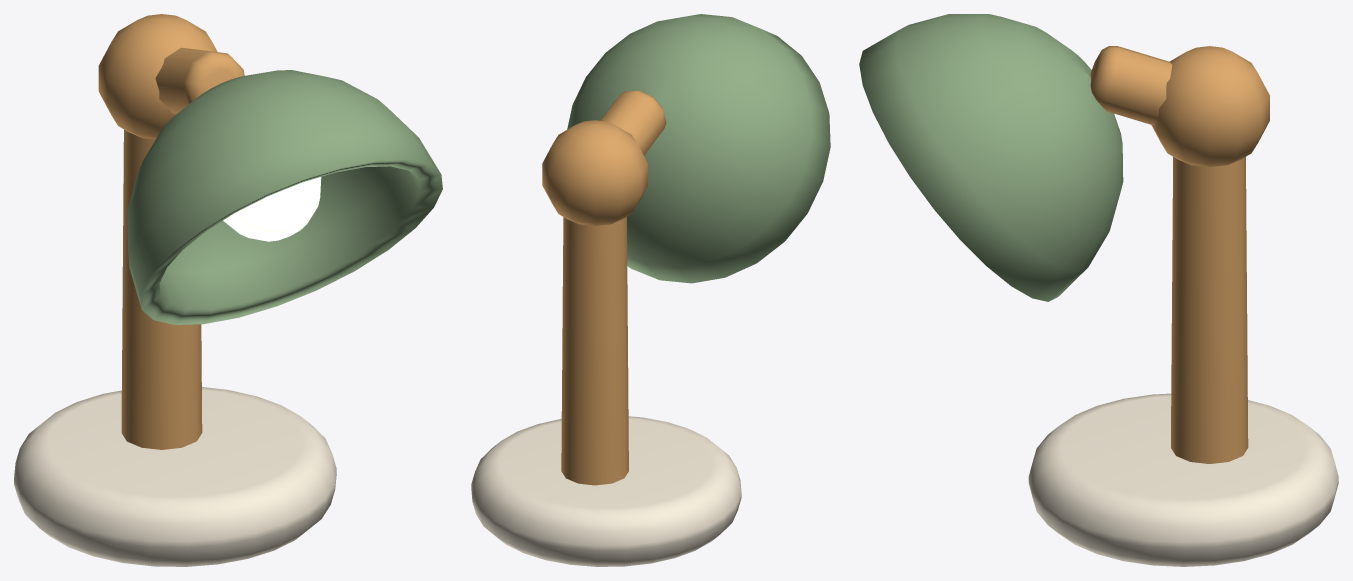
File: desk_lamp.glb
The picture shows the model from 3 angles, left to right: view 1: azimuth 30°, elevation 25°; view 2: azimuth 150°, elevation 25°; view 3: azimuth 270°, elevation 25°; orthographic projection. The views are drawn at different scales.
Parts seen in each view (by area): view 1: 06-desk-lamp_mesh; view 2: 06-desk-lamp_mesh; view 3: 06-desk-lamp_mesh.
Part boxes in pixels (x1,y1,x2,y2): 06-desk-lamp_mesh: (14, 14, 442, 566); 06-desk-lamp_mesh: (471, 14, 830, 566); 06-desk-lamp_mesh: (859, 14, 1338, 566).
Size of the model in its own units: 0.3172 by 0.5382 by 0.4824.
